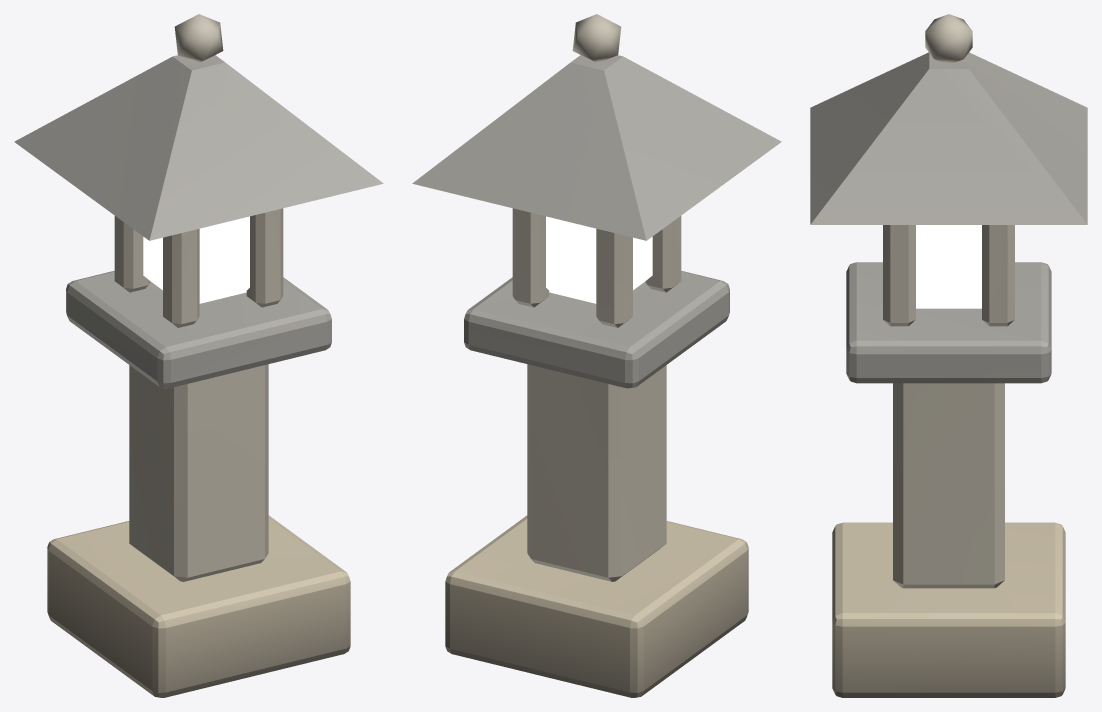
File: stone_lantern.glb
3 renders of one model, left to right at view 1: azimuth 30°, elevation 25°; view 2: azimuth 150°, elevation 25°; view 3: azimuth 270°, elevation 25°, orthographic. The views are drawn at different scales.
Parts seen in each view (by area): view 1: Lantern, Glow; view 2: Lantern, Glow; view 3: Lantern, Glow.
Part boxes in pixels (<box>): Lantern: <box>14,14,383,697</box>; Glow: <box>143,216,249,303</box>; Lantern: <box>412,14,781,697</box>; Glow: <box>546,216,652,303</box>; Lantern: <box>810,14,1087,697</box>; Glow: <box>916,225,981,308</box>.
Bounding box in the file's own units: 0.594 × 1.51 × 0.594.
